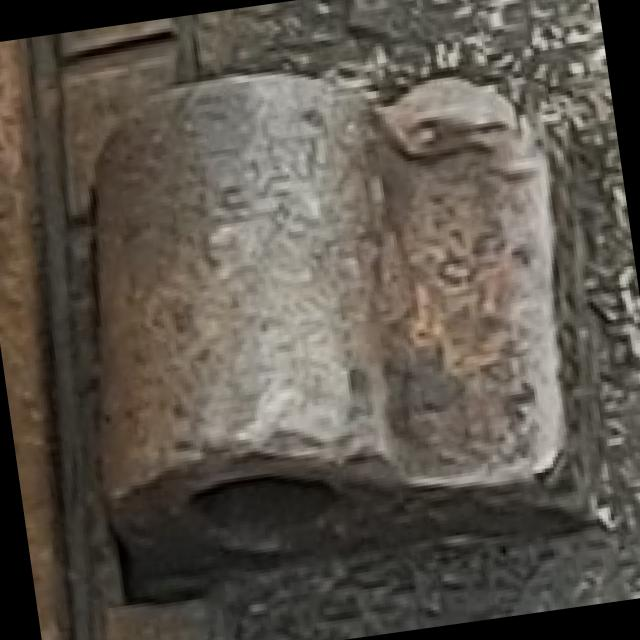track_bolt_missing: (44, 49, 438, 564)
